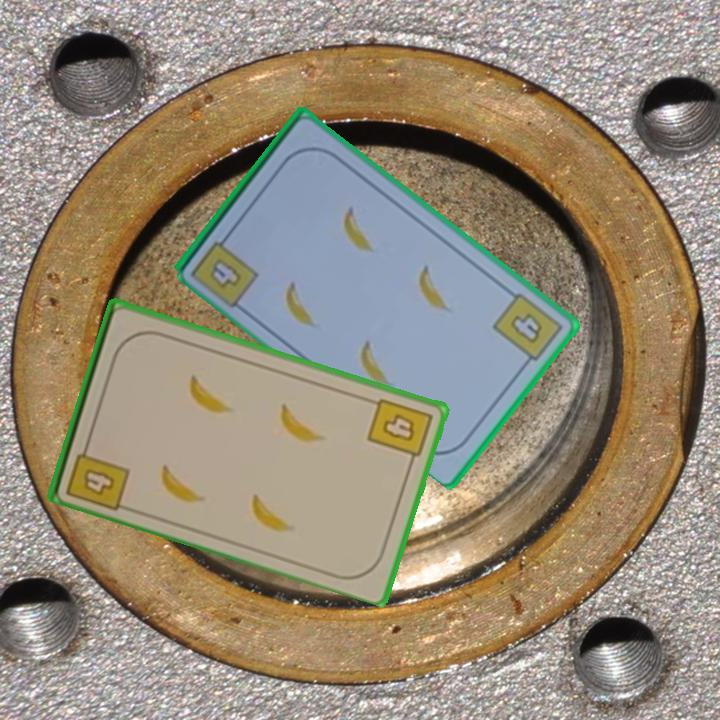4b: (489, 289, 566, 371), (62, 436, 133, 513), (363, 394, 435, 469), (206, 254, 245, 292)
